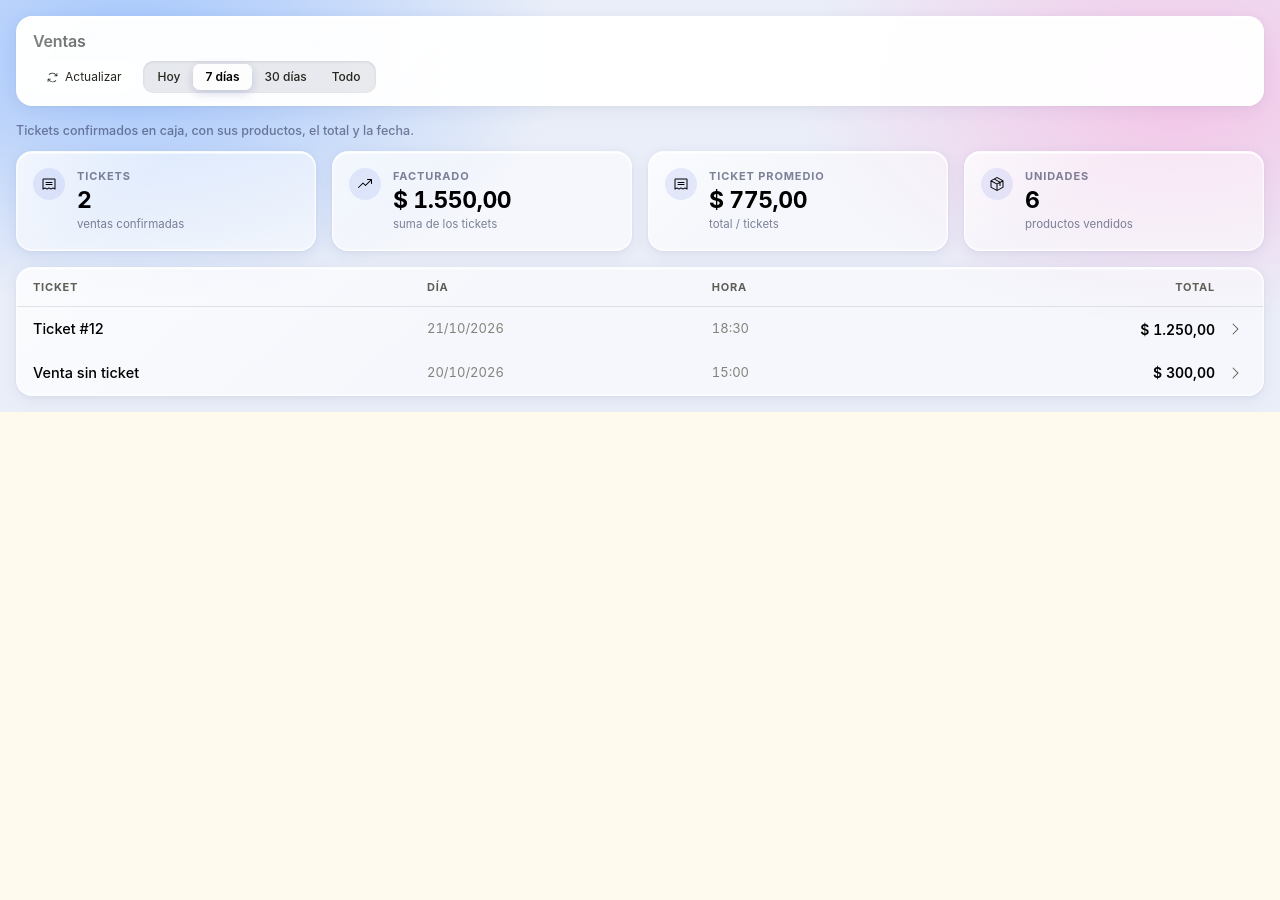
Test case: ventas › se puede desplegar más de un ticket a la vez, y también con el teclado
Click the text "Ticket #12" at x=68, y=329, box [33, 320, 104, 337]
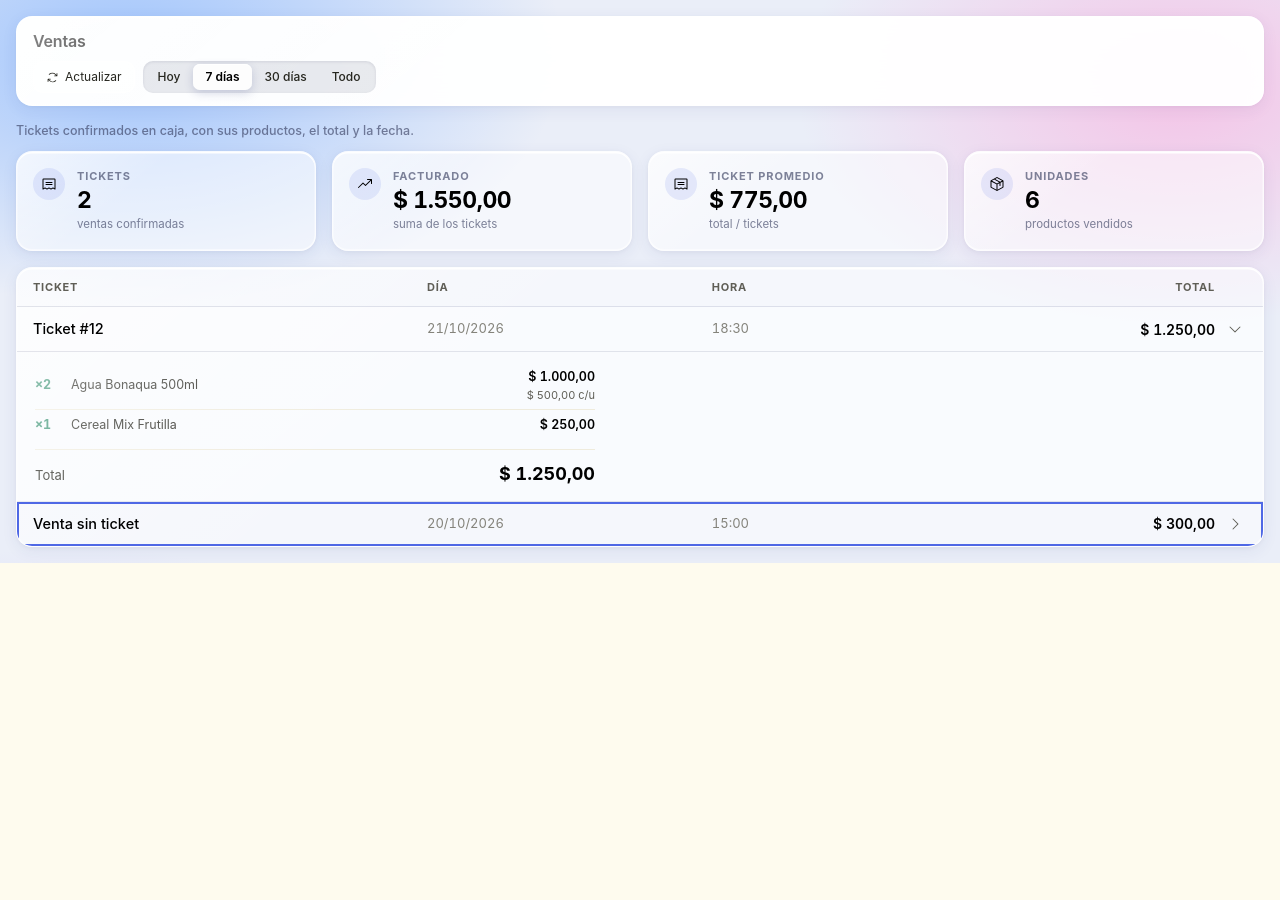
Press Enter
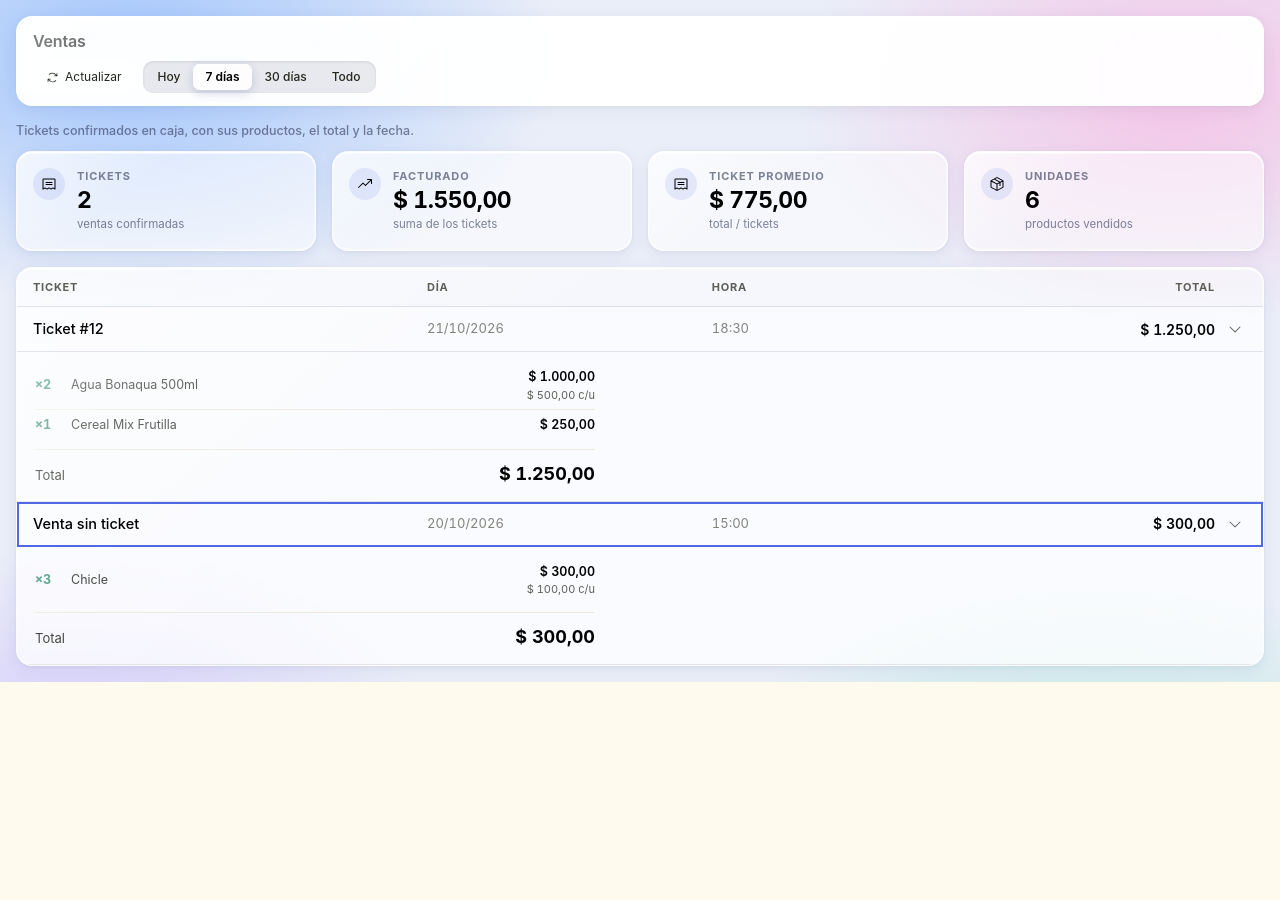
Expected: the text "Agua Bonaqua 500ml" is shown, [71, 377, 198, 392]
Expected: the text "Chicle" is shown, [71, 572, 108, 587]
Type keys " "
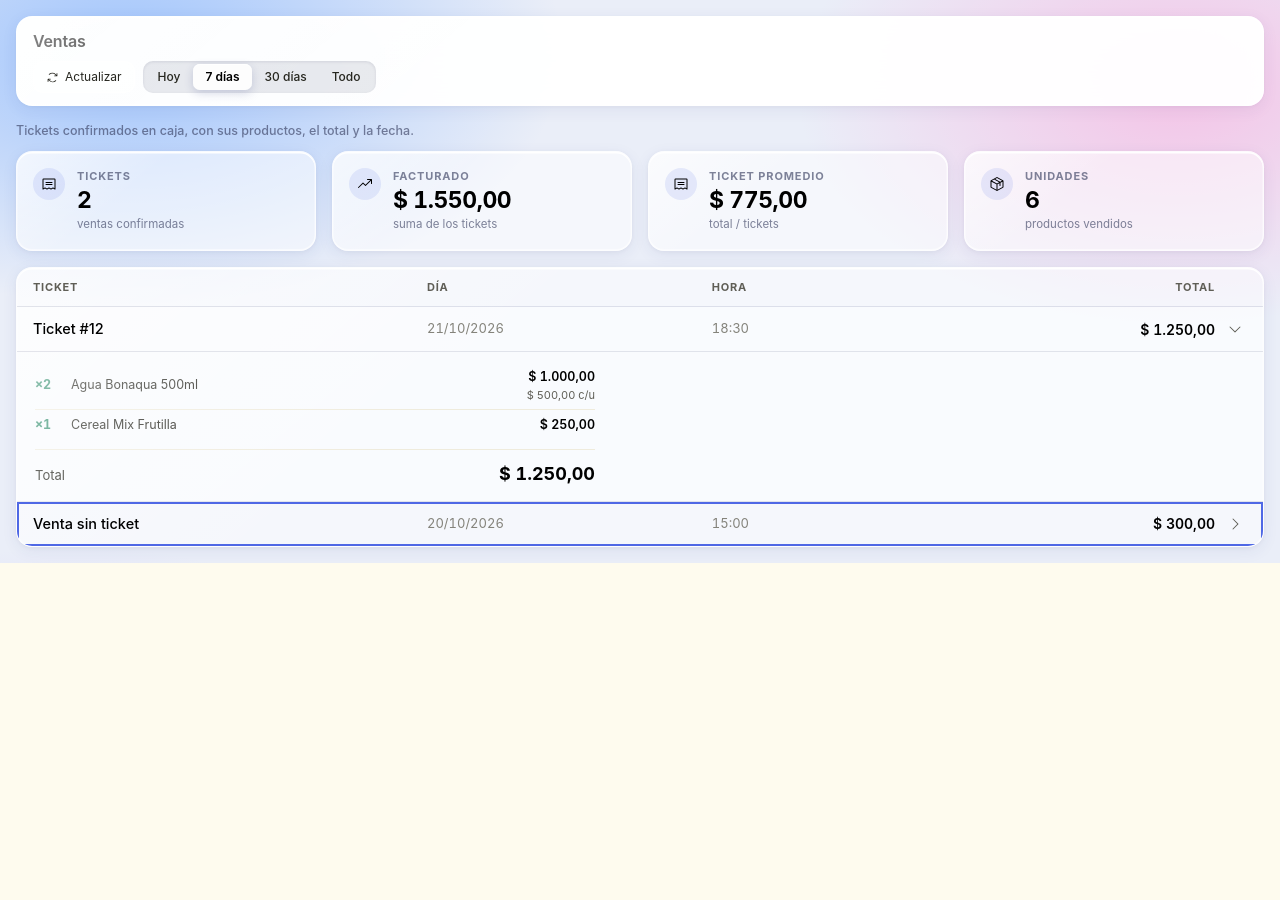
Expected: the text "Chicle" is gone
